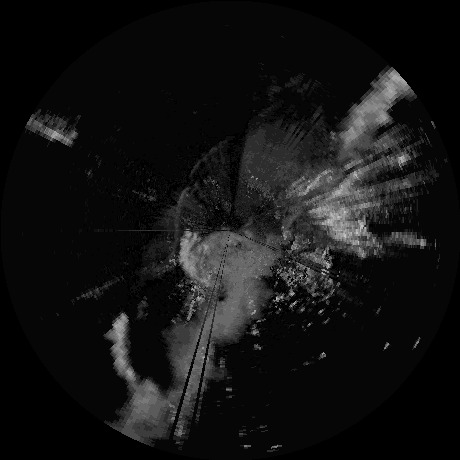frontgust: (189, 139, 220, 178), (172, 188, 187, 257)
